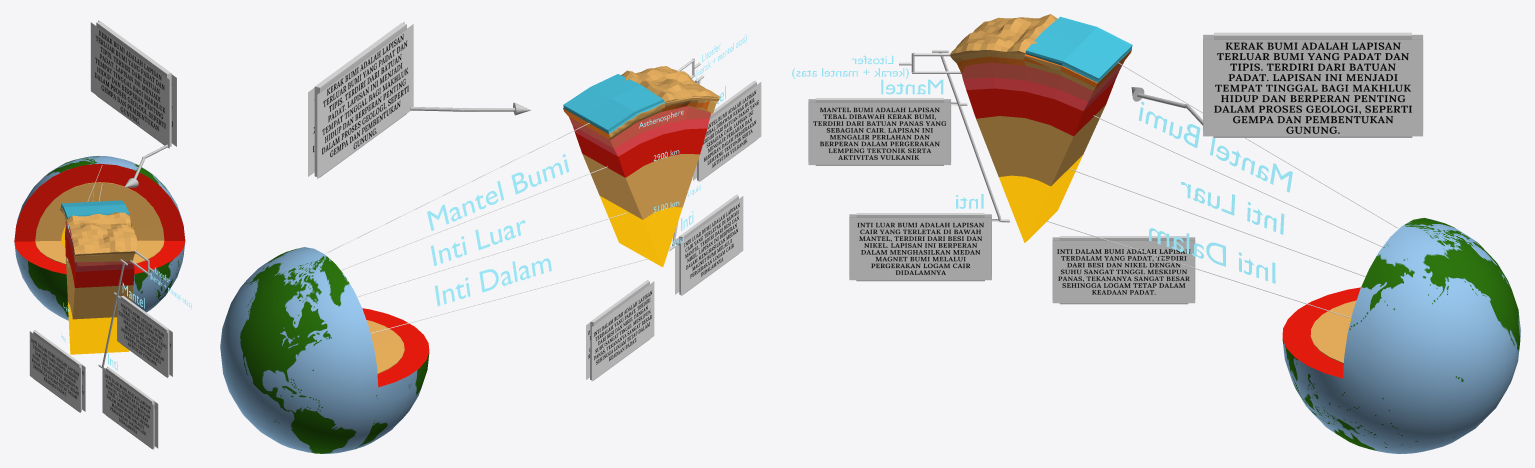
Rendered from BUMifix.glb.
3 views of the same model, side by side, from view 1: azimuth 30°, elevation 25°; view 2: azimuth 150°, elevation 25°; view 3: azimuth 270°, elevation 25° (orthographic). The views are drawn at different scales.
Parts seen in each view (by area): view 1: Sphere, Circle, kerk, Sphere.002, kerk.002, kerk.003, kerk.001, Cube, Cylinder.002, Cube.001, Cube.002, Cube.003 (+2 smaller); view 2: Sphere, Circle, kerk, kerk.003, kerk.002, kerk.001, Cylinder, Cube, Sphere.002, Text.003, Text.005, Text.004 (+3 smaller); view 3: Sphere, Circle, kerk, kerk.003, kerk.002, kerk.001, Cube, Sphere.002, Cylinder, Text.003, Cylinder.002, Text.005 (+4 smaller).
Boxes of the visible parts, x1=… form: Sphere: x1=14, y1=156, x2=185, y2=320; Circle: x1=60, y1=200, x2=136, y2=354; kerk: x1=90, y1=20, x2=176, y2=148; Sphere.002: x1=35, y1=182, x2=164, y2=264; kerk.002: x1=102, y1=367, x2=158, y2=449; kerk.003: x1=29, y1=330, x2=85, y2=412; kerk.001: x1=117, y1=295, x2=172, y2=377; Cube: x1=96, y1=21, x2=171, y2=146; Cylinder.002: x1=98, y1=250, x2=154, y2=370; Cube.001: x1=120, y1=295, x2=169, y2=376; Cube.002: x1=106, y1=367, x2=154, y2=448; Cube.003: x1=33, y1=330, x2=81, y2=411; Sphere: x1=220, y1=247, x2=429, y2=453; Circle: x1=563, y1=66, x2=720, y2=267; kerk: x1=308, y1=22, x2=413, y2=178; kerk.003: x1=586, y1=280, x2=654, y2=381; kerk.002: x1=675, y1=194, x2=743, y2=295; kerk.001: x1=693, y1=80, x2=761, y2=181; Cylinder: x1=325, y1=123, x2=647, y2=333; Cube: x1=314, y1=23, x2=406, y2=177; Sphere.002: x1=366, y1=320, x2=404, y2=373; Text.003: x1=427, y1=154, x2=569, y2=230; Text.005: x1=434, y1=258, x2=551, y2=306; Text.004: x1=431, y1=220, x2=525, y2=265; Sphere: x1=1282, y1=217, x2=1520, y2=453; Circle: x1=950, y1=14, x2=1132, y2=242; kerk: x1=1203, y1=35, x2=1422, y2=136; kerk.003: x1=1052, y1=237, x2=1195, y2=303; kerk.002: x1=849, y1=214, x2=991, y2=279; kerk.001: x1=808, y1=99, x2=950, y2=164; Cube: x1=1213, y1=32, x2=1412, y2=137; Sphere.002: x1=1310, y1=300, x2=1356, y2=363; Cylinder: x1=1047, y1=62, x2=1397, y2=317; Text.003: x1=1138, y1=101, x2=1292, y2=192; Cylinder.002: x1=899, y1=50, x2=1009, y2=222; Text.005: x1=1149, y1=228, x2=1275, y2=283.
Size of the model in its own units: 12.66 by 14.4 by 23.04.
Materials: 16 (5 with a texture image).
